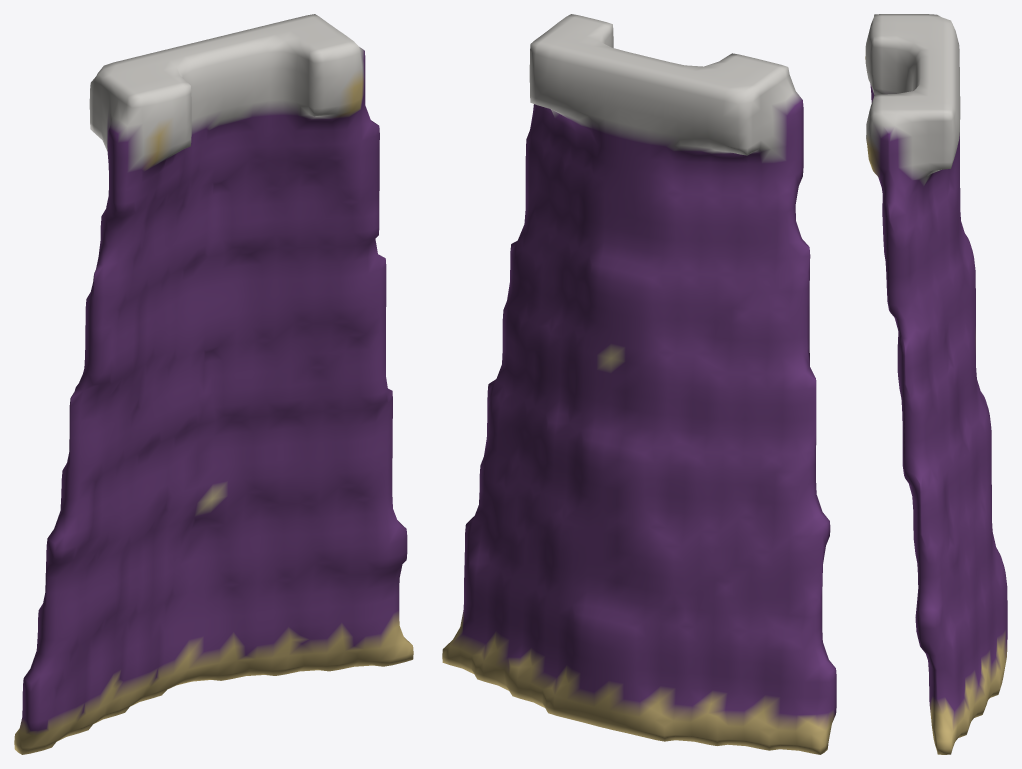
File: plate_legendary_cloak_lod1.glb
The picture shows the model from 3 angles, left to right: view 1: azimuth 30°, elevation 25°; view 2: azimuth 150°, elevation 25°; view 3: azimuth 270°, elevation 25°; orthographic projection. The views are drawn at different scales.
Parts seen in each view (by area): view 1: plate_legendary_cloak_lod1; view 2: plate_legendary_cloak_lod1; view 3: plate_legendary_cloak_lod1.
Part boxes in pixels (x1,y1,x2,y2): plate_legendary_cloak_lod1: (14,14,413,754); plate_legendary_cloak_lod1: (442,14,836,754); plate_legendary_cloak_lod1: (865,14,1007,754).
Size of the model in its own units: 0.6237 by 1.01 by 0.2154.
